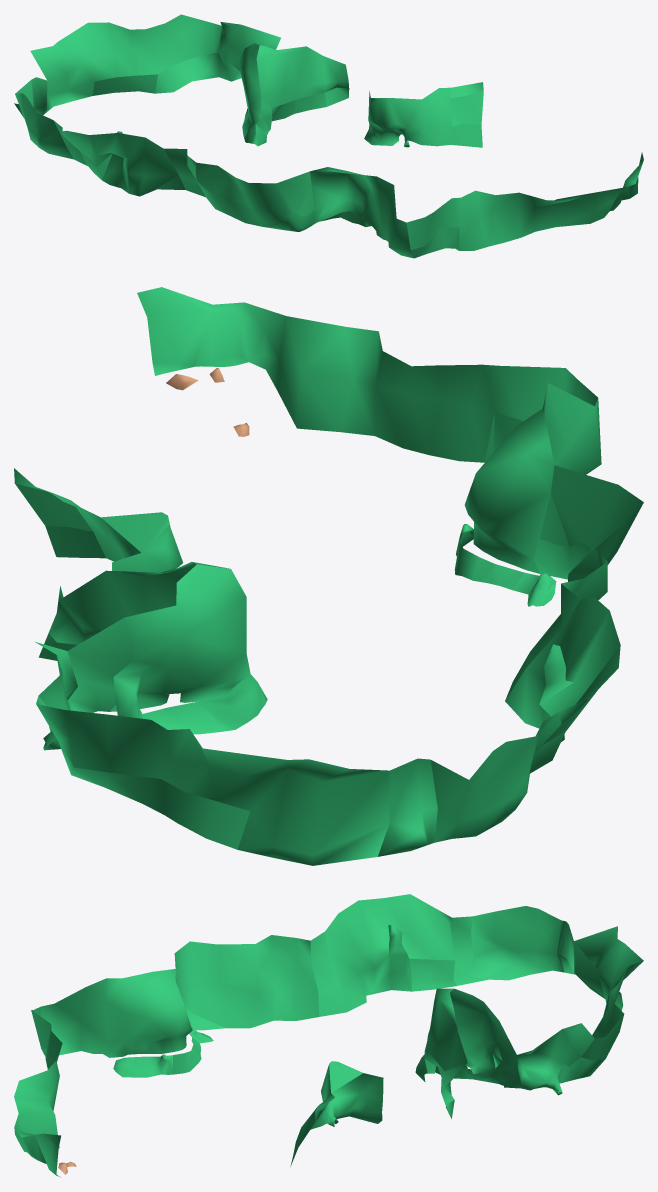
Rendered from cluster_0.fbx.
3 renders of one model, top to bottom at view 1: azimuth 30°, elevation 25°; view 2: azimuth 150°, elevation 25°; view 3: azimuth 270°, elevation 25°, orthographic. The views are drawn at different scales.
Visible parts, largest first — view 1: cluster_0; view 2: cluster_0; view 3: cluster_0.
Boxes of the visible parts, left/top/right/bottom form: cluster_0: left=14, top=14, right=643, bottom=258; cluster_0: left=14, top=287, right=643, bottom=865; cluster_0: left=14, top=894, right=643, bottom=1177.
Size of the model in its own units: 1256760 by 254324 by 1451624.
